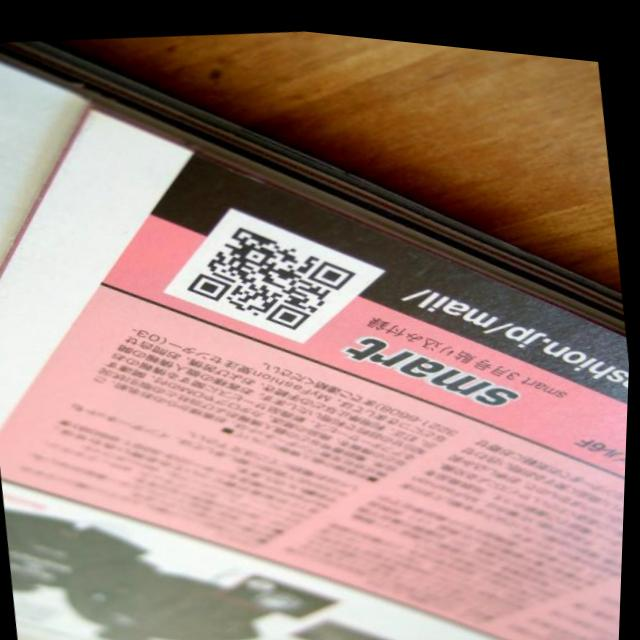qrcode: (181, 202, 368, 344)
